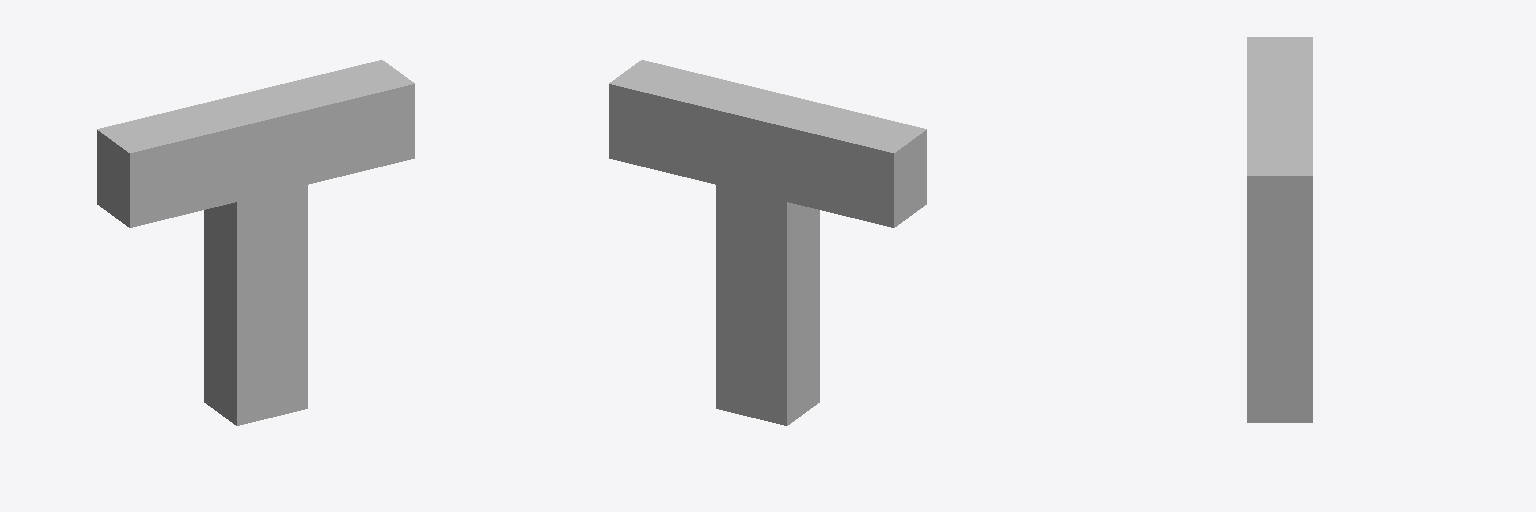
Rendered from tblock_paper.obj.
The picture shows the model from 3 angles: view 1: azimuth 30°, elevation 25°; view 2: azimuth 150°, elevation 25°; view 3: azimuth 270°, elevation 25°; orthographic projection.
Parts seen in each view (by area): view 1: mesh5, mesh9, mesh2, mesh0; view 2: mesh6, mesh9, mesh2, mesh0; view 3: mesh4, mesh9, mesh8.
Boxes of the visible parts, <box> form: mesh5: <box>130,84,414,425</box>; mesh9: <box>97,60,414,152</box>; mesh2: <box>204,202,236,425</box>; mesh0: <box>97,130,129,227</box>; mesh6: <box>609,84,893,425</box>; mesh9: <box>609,60,926,152</box>; mesh2: <box>787,202,819,425</box>; mesh0: <box>894,130,926,227</box>; mesh4: <box>1247,251,1312,422</box>; mesh9: <box>1247,37,1312,175</box>; mesh8: <box>1247,176,1312,250</box>.
Bounding box in the file's own units: 0.2 × 0.2 × 0.04.